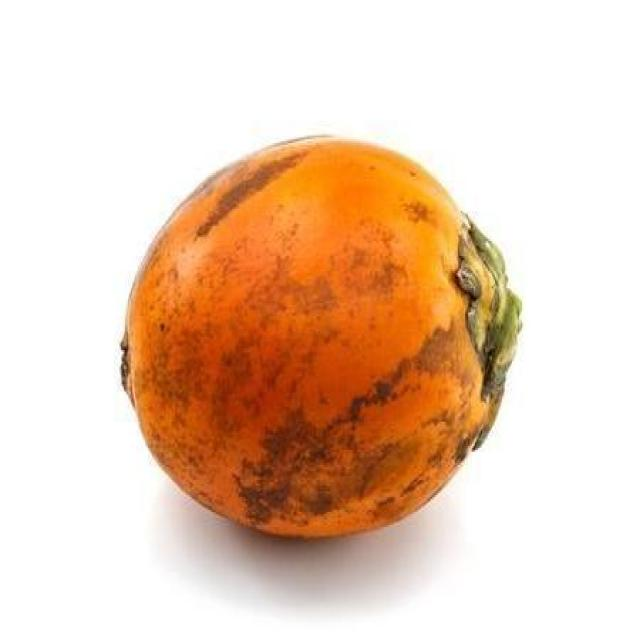good: (121, 137, 522, 542)
